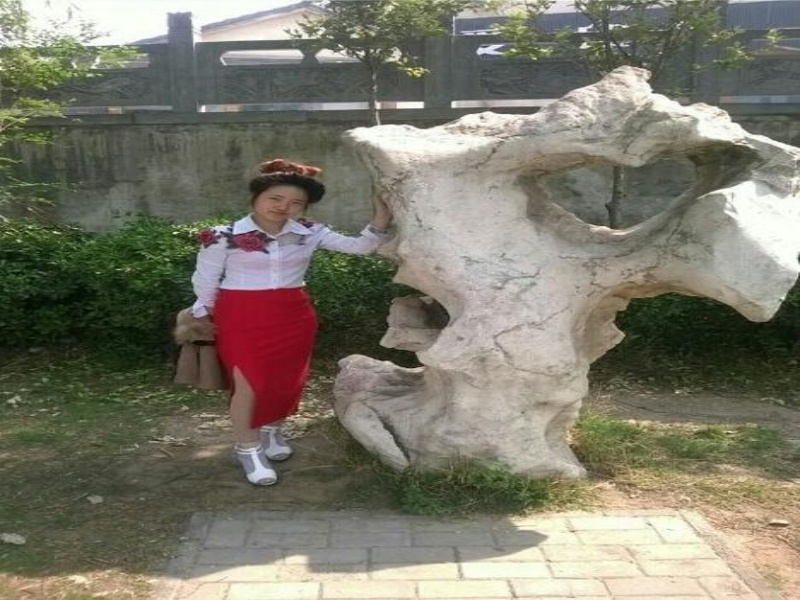long_sleeved_shirt: (181, 209, 385, 319)
skirt: (200, 285, 323, 430)
